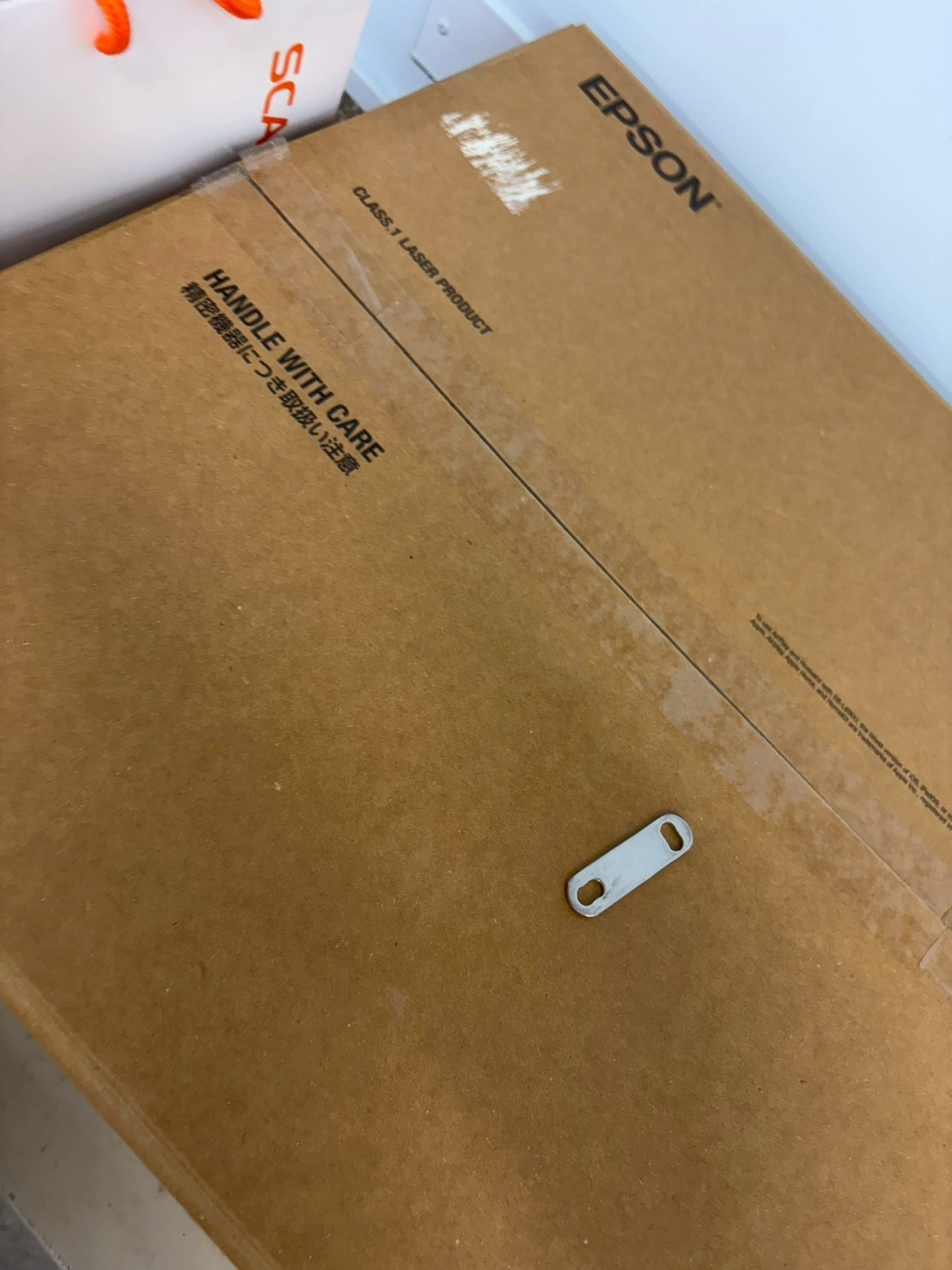Fe: (559, 808, 697, 926)
